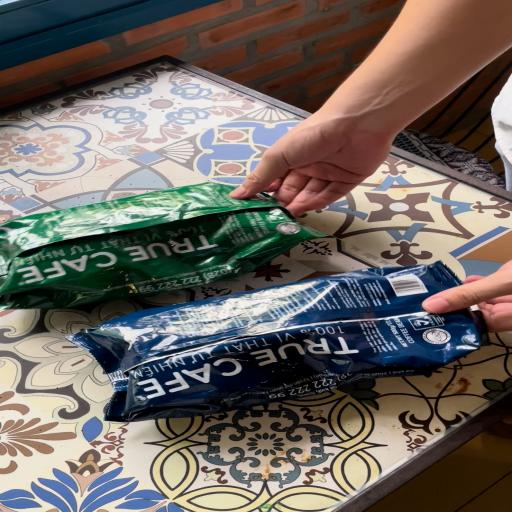cafe_hat: (69, 261, 486, 422)
cafe_xay: (0, 182, 322, 310)
